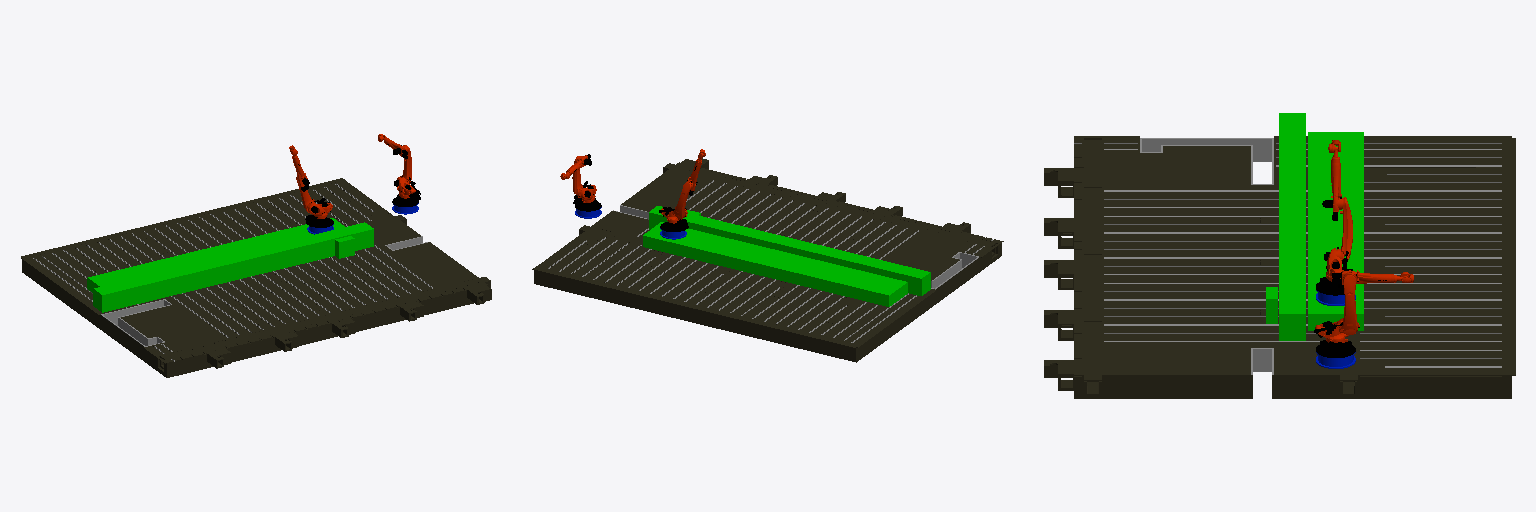
URDF robot description (tez_cell):
<?xml version="1.0"?>
<robot name="tez_cell" version="1.0">


  <link name="base_link">
    <visual>
      <origin rpy="0 0 0" xyz="0 0 0"/>
      <geometry>
        <mesh filename="package://tez_description/mesh/full_details/spannfeld.dae"/>
      </geometry>
    </visual>
    <collision>
      <origin rpy="0 0 0" xyz="0 0 0"/>
      <geometry>
        <mesh filename="package://tez_description/mesh/full_details/spannfeld.dae"/>
      </geometry>
    </collision>
  </link>

  <!-- Linear Axis -->
  <joint name="linear_axis_pos" type="fixed">
    <origin rpy="0 0 0" xyz="0 0 0"/>
    <parent link="base_link"/>
    <child link="linear_axis"/>
  </joint>

  <link name="linear_axis">
    <visual>
      <origin rpy="0 0 0" xyz="0 0 0"/>
      <geometry>
        <mesh filename="package://tez_description/mesh/full_details/linear_axis.dae"/>
      </geometry>
    </visual>
    <collision>
      <origin rpy="0 0 0" xyz="0 0 0"/>
      <geometry>
        <mesh filename="package://tez_description/mesh/full_details/linear_axis.dae"/>
      </geometry>
    </collision>
  </link>

  <!-- KR210_1 -->
  <joint name="kr210_1_linear_axis_joint" type="prismatic">
    <origin rpy="0 0 0" xyz="0 0 0.487"/>
    <parent link="linear_axis"/>
    <child link="KR210_1_socket"/>
    <axis xyz="1.0 0.0 0.0"/>
    <limit effort="100" lower="-9" upper="0" velocity="100"/> <!--upper = 9 in origin version-->
  </joint>

  <link name="KR210_1_socket">
    <visual>
      <origin rpy="0 0 0" xyz="0 0 0"/>
      <geometry>
        <mesh filename="package://tez_description/mesh/full_details/KR210_3100_ultra_socket.dae"/>
      </geometry>
    </visual>
    <collision>
      <origin rpy="0 0 0" xyz="0 0 0"/>
      <geometry>
        <mesh filename="package://tez_description/mesh/full_details/KR210_3100_ultra_socket.dae"/>
      </geometry>
    </collision>
  </link>

  <joint name="kr210_1_joint_1" type="revolute">
    <origin rpy="0 0 -1.5707963267948966" xyz="0 0 0.5256"/>
    <parent link="KR210_1_socket"/>
    <child link="KR210_1_A1"/>
    <axis xyz="0.0 0.0 -1.0"/>
    <limit effort="100" lower="-3.22886" upper="3.22886" velocity="1"/>
  </joint>

  <link name="KR210_1_A1">
    <visual>
      <origin rpy="0 0 0" xyz="0 0 0"/>
      <geometry>
        <mesh filename="package://tez_description/mesh/full_details/KR210_3100_ultra_A1.dae"/>
      </geometry>
    </visual>
    <collision>
      <origin rpy="0 0 0" xyz="0 0 0"/>
      <geometry>
        <mesh filename="package://tez_description/mesh/full_details/KR210_3100_ultra_A1.dae"/>
      </geometry>
    </collision>
  </link>

  <joint name="kr210_1_joint_2" type="revolute">
    <origin rpy="1.5707963267948966 0 0" xyz="0.005 -0.35 0.45"/>
    <parent link="KR210_1_A1"/>
    <child link="KR210_1_A2"/>
    <axis xyz="1.0 0.0 0.0"/>
    <limit effort="10000" lower="-2.443460952792061" upper="-0.08726646259971647" velocity="1"/>
  </joint>

  <link name="KR210_1_A2">
    <visual>
      <origin rpy="0 0 0" xyz="0 0 0"/>
      <geometry>
        <mesh filename="package://tez_description/mesh/full_details/KR210_3100_ultra_A2.dae"/>
      </geometry>
    </visual>
    <collision>
      <origin rpy="0 0 0" xyz="0 0 0"/>
      <geometry>
        <mesh filename="package://tez_description/mesh/full_details/KR210_3100_ultra_A2.dae"/>
      </geometry>
    </collision>
  </link>

  <joint name="kr210_1_joint_3" type="revolute">
    <origin rpy="-1.5707963267948966 0 0" xyz="-0.183 0 1.35"/>
    <parent link="KR210_1_A2"/>
    <child link="KR210_1_A3"/>
    <axis xyz="1.0 0.0 0.0"/>
    <limit effort="100" lower="-2.0943951023931953" upper="2.705260340591211" velocity="1"/>
  </joint>

  <link name="KR210_1_A3">
    <visual>
      <origin rpy="0 0 0" xyz="0 0 0"/>
      <geometry>
        <mesh filename="package://tez_description/mesh/full_details/KR210_3100_ultra_A3.dae"/>
      </geometry>
    </visual>
    <collision>
      <origin rpy="0 0 0" xyz="0 0 0"/>
      <geometry>
        <mesh filename="package://tez_description/mesh/full_details/KR210_3100_ultra_A3.dae"/>
      </geometry>
    </collision>
  </link>

  <joint name="kr210_1_joint_4" type="revolute">
    <origin rpy="0 0 0" xyz="0.178 -0.962 -0.041"/>
    <parent link="KR210_1_A3"/>
    <child link="KR210_1_A4"/>
    <axis xyz="0.0 1.0 0.0"/>
    <limit effort="100" lower="-6.10865" upper="6.10865" velocity="100"/>
  </joint>

  <link name="KR210_1_A4">
    <visual>
      <origin rpy="0 0 0" xyz="0 0 0"/>
      <geometry>
        <mesh filename="package://tez_description/mesh/full_details/KR210_3100_ultra_A4.dae"/>
      </geometry>
    </visual>
    <collision>
      <origin rpy="0 0 0" xyz="0 0 0"/>
      <geometry>
        <mesh filename="package://tez_description/mesh/full_details/KR210_3100_ultra_A4.dae"/>
      </geometry>
    </collision>
  </link>

  <joint name="kr210_1_joint_5" type="revolute">
    <origin rpy="0 0 0" xyz="0 -0.438 0"/>
    <parent link="KR210_1_A4"/>
    <child link="KR210_1_A5"/>
    <axis xyz="1.0 0.0 0.0"/>
    <limit effort="100" lower="-2.138028333693054" upper="2.138028333693054" velocity="1"/>
  </joint>

  <link name="KR210_1_A5">
    <visual>
      <origin rpy="0 0 0" xyz="0 0 0"/>
      <geometry>
        <mesh filename="package://tez_description/mesh/full_details/KR210_3100_ultra_A5.dae"/>
      </geometry>
    </visual>
    <collision>
      <origin rpy="0 0 0" xyz="0 0 0"/>
      <geometry>
        <mesh filename="package://tez_description/mesh/full_details/KR210_3100_ultra_A5.dae"/>
      </geometry>
    </collision>
  </link>

  <joint name="kr210_1_joint_6" type="revolute">
    <origin rpy="0 0 0" xyz="0 -0.24 0"/>
    <parent link="KR210_1_A5"/>
    <child link="KR210_1_A6"/>
    <axis xyz="0.0 1.0 0.0"/>
    <limit effort="100" lower="-6.10865" upper="6.10865" velocity="2"/>
  </joint>

  <link name="KR210_1_A6">
    <visual>
      <origin rpy="0 0 0" xyz="0 0 0"/>
      <geometry>
        <mesh filename="package://tez_description/mesh/full_details/KR210_3100_ultra_A6.dae"/>
      </geometry>
    </visual>
    <collision>
      <origin rpy="0 0 0" xyz="0 0 0"/>
      <geometry>
        <mesh filename="package://tez_description/mesh/full_details/KR210_3100_ultra_A6.dae"/>
      </geometry>
    </collision>
  </link>

  <!-- <link name="EndEffector_Link" />

  <joint name="EndEffector" type="fixed">
    <origin xyz="0 0 -0.061525" rpy="0 0 0" />
    <parent link="KR210_1_A6" />
    <child link="EndEffector_Link" />
    <axis xyz="0 0 0" />
  </joint> -->


  <!-- KR210_2 -->
  <joint name="kr210_2_linear_axis_joint" type="prismatic">
    <origin rpy="0 0 3.14159" xyz="-1.5 0 0.487"/>
    <parent link="linear_axis"/>
    <child link="KR210_2_socket"/>
    <axis xyz="1.0 0.0 0.0"/>
    <limit effort="100" lower="-1.5" upper="-9" velocity="100"/>
  </joint>

  <link name="KR210_2_socket">
    <visual>
      <origin rpy="0 0 0" xyz="0 0 0"/>
      <geometry>
        <mesh filename="package://tez_description/mesh/full_details/KR210_3100_ultra_socket.dae"/>
      </geometry>
    </visual>
    <collision>
      <origin rpy="0 0 0" xyz="0 0 0"/>
      <geometry>
        <mesh filename="package://tez_description/mesh/full_details/KR210_3100_ultra_socket.dae"/>
      </geometry>
    </collision>
  </link>

  <joint name="kr210_2_joint_1" type="revolute">
    <origin rpy="0 0 0" xyz="0 0 0.5256"/>
    <parent link="KR210_2_socket"/>
    <child link="KR210_2_A1"/>
    <axis xyz="0.0 0.0 1.0"/>
    <limit effort="100" lower="-3.22886" upper="3.22886" velocity="100"/>
  </joint>

  <link name="KR210_2_A1">
    <visual>
      <origin rpy="0 0 0" xyz="0 0 0"/>
      <geometry>
        <mesh filename="package://tez_description/mesh/full_details/KR210_3100_ultra_A1.dae"/>
      </geometry>
    </visual>
    <collision>
      <origin rpy="0 0 0" xyz="0 0 0"/>
      <geometry>
        <mesh filename="package://tez_description/mesh/full_details/KR210_3100_ultra_A1.dae"/>
      </geometry>
    </collision>
  </link>

  <joint name="kr210_2_joint_2" type="revolute">
    <origin rpy="0 0 0" xyz="0.005 -0.35 0.45"/>
    <parent link="KR210_2_A1"/>
    <child link="KR210_2_A2"/>
    <axis xyz="1.0 0.0 0.0"/>
    <limit effort="10000" lower="-2.0944" upper="1.22173" velocity="100"/>
  </joint>

  <link name="KR210_2_A2">
    <visual>
      <origin rpy="0 0 0" xyz="0 0 0"/>
      <geometry>
        <mesh filename="package://tez_description/mesh/full_details/KR210_3100_ultra_A2.dae"/>
      </geometry>
    </visual>
    <collision>
      <origin rpy="0 0 0" xyz="0 0 0"/>
      <geometry>
        <mesh filename="package://tez_description/mesh/full_details/KR210_3100_ultra_A2.dae"/>
      </geometry>
    </collision>
  </link>

  <joint name="kr210_2_joint_3" type="revolute">
    <origin rpy="0 0 0" xyz="-0.183 0 1.35"/>
    <parent link="KR210_2_A2"/>
    <child link="KR210_2_A3"/>
    <axis xyz="1.0 0.0 0.0"/>
    <limit effort="100" lower="-2.0944" upper="2.70526" velocity="100"/>
  </joint>

  <link name="KR210_2_A3">
    <visual>
      <origin rpy="0 0 0" xyz="0 0 0"/>
      <geometry>
        <mesh filename="package://tez_description/mesh/full_details/KR210_3100_ultra_A3.dae"/>
      </geometry>
    </visual>
    <collision>
      <origin rpy="0 0 0" xyz="0 0 0"/>
      <geometry>
        <mesh filename="package://tez_description/mesh/full_details/KR210_3100_ultra_A3.dae"/>
      </geometry>
    </collision>
  </link>

  <joint name="kr210_2_joint_4" type="revolute">
    <origin rpy="0 0 0" xyz="0.178 -0.962 -0.041"/>
    <parent link="KR210_2_A3"/>
    <child link="KR210_2_A4"/>
    <axis xyz="0.0 1.0 0.0"/>
    <limit effort="100" lower="-6.10865" upper="6.10865" velocity="100"/>
  </joint>

  <link name="KR210_2_A4">
    <visual>
      <origin rpy="0 0 0" xyz="0 0 0"/>
      <geometry>
        <mesh filename="package://tez_description/mesh/full_details/KR210_3100_ultra_A4.dae"/>
      </geometry>
    </visual>
    <collision>
      <origin rpy="0 0 0" xyz="0 0 0"/>
      <geometry>
        <mesh filename="package://tez_description/mesh/full_details/KR210_3100_ultra_A4.dae"/>
      </geometry>
    </collision>
  </link>

  <joint name="kr210_2_joint_5" type="revolute">
    <origin rpy="0 0 0" xyz="0 -0.438 0"/>
    <parent link="KR210_2_A4"/>
    <child link="KR210_2_A5"/>
    <axis xyz="1.0 0.0 0.0"/>
    <limit effort="100" lower="-2.18166" upper="2.18166" velocity="100"/>
  </joint>

  <link name="KR210_2_A5">
    <visual>
      <origin rpy="0 0 0" xyz="0 0 0"/>
      <geometry>
        <mesh filename="package://tez_description/mesh/full_details/KR210_3100_ultra_A5.dae"/>
      </geometry>
    </visual>
    <collision>
      <origin rpy="0 0 0" xyz="0 0 0"/>
      <geometry>
        <mesh filename="package://tez_description/mesh/full_details/KR210_3100_ultra_A5.dae"/>
      </geometry>
    </collision>
  </link>

  <joint name="kr210_2_joint_6" type="revolute">
    <origin rpy="0 0 0" xyz="0 -0.24 0"/>
    <parent link="KR210_2_A5"/>
    <child link="KR210_2_A6"/>
    <axis xyz="0.0 1.0 0.0"/>
    <limit effort="100" lower="-6.10865" upper="6.10865" velocity="2"/>
  </joint>

  <link name="KR210_2_A6">
    <visual>
      <origin rpy="0 0 0" xyz="0 0 0"/>
      <geometry>
        <mesh filename="package://tez_description/mesh/full_details/KR210_3100_ultra_A6.dae"/>
      </geometry>
    </visual>
    <collision>
      <origin rpy="0 0 0" xyz="0 0 0"/>
      <geometry>
        <mesh filename="package://tez_description/mesh/full_details/KR210_3100_ultra_A6.dae"/>
      </geometry>
    </collision>
  </link>

  <!-- <link name="EndEffector_Link" />

  <joint name="EndEffector" type="fixed">
    <origin xyz="0 0 -0.061525" rpy="0 0 0" />
    <parent link="KR210_2_A6" />
    <child link="EndEffector_Link" />
    <axis xyz="0 0 0" />
  </joint> -->

</robot>

--- Render facts (derived) ---
Views: 3 orthographic renders of the robot side by side, from view 1: azimuth 30°, elevation 25°; view 2: azimuth 150°, elevation 25°; view 3: azimuth 270°, elevation 25°.
Robot: tez_cell — 16 links, 15 joints (12 revolute, 2 prismatic, 1 fixed); root link base_link; default pose: joints at zero except 2 at the middle of their limits (kr210_1_joint_2 = -1.27, kr210_2_linear_axis_joint = -5.25).
Links seen in each view (by area): view 1: base_link, linear_axis; view 2: base_link, linear_axis; view 3: base_link, linear_axis, KR210_2_socket, KR210_2_A2, KR210_1_socket, KR210_1_A2, KR210_1_A3.
Link boxes in pixels (x1,y1,x2,y2): base_link: (21, 178, 491, 377); linear_axis: (87, 218, 373, 312); base_link: (532, 158, 1003, 362); linear_axis: (643, 206, 930, 306); base_link: (1044, 136, 1515, 398); linear_axis: (1266, 113, 1363, 340); KR210_2_socket: (1316, 340, 1355, 368); KR210_2_A2: (1339, 275, 1359, 334); KR210_1_socket: (1316, 277, 1355, 305); KR210_1_A2: (1336, 197, 1352, 260); KR210_1_A3: (1322, 166, 1342, 220).
Bounding box of the posed robot: 15.07 × 11.88 × 4.96 m (x, y, z).
Meshes: 9 distinct files referenced, 14 mesh visuals loaded (8 Collada DAE); not drawn: 2 (reference not matched to a file when rendering).
